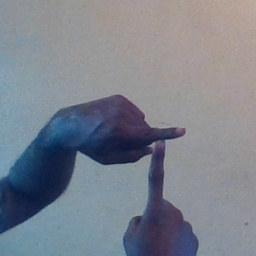T: (108, 106, 203, 227)
